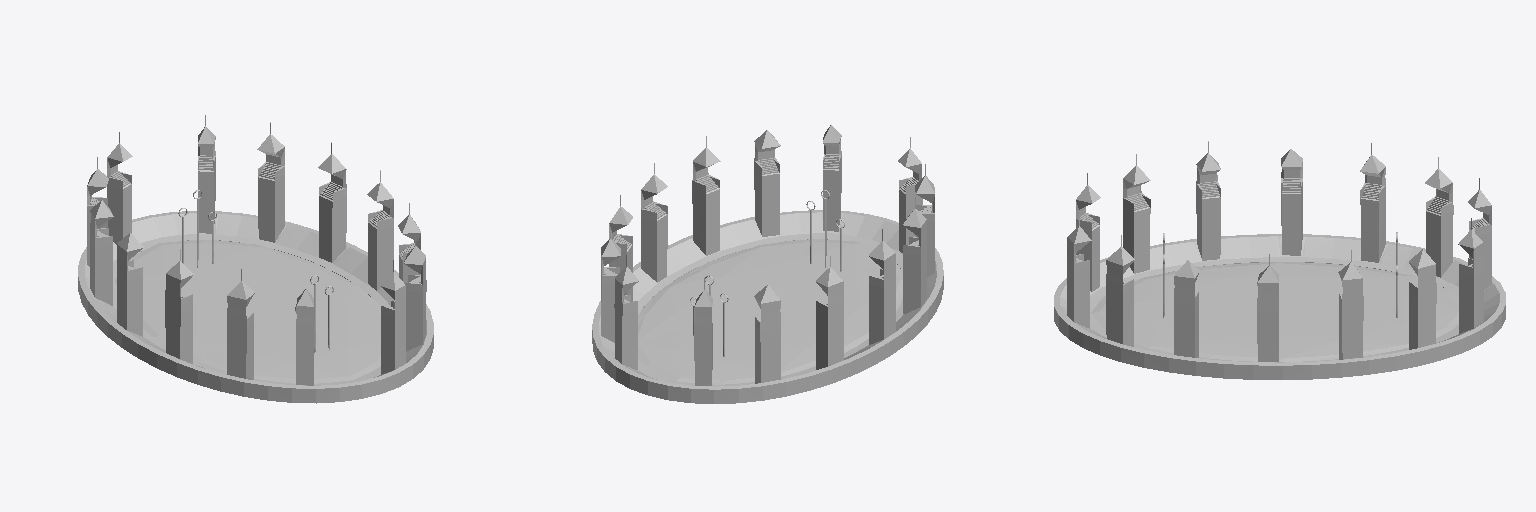
Rendered from quidditch pitch triangulated.obj.
3 renders of one model, left to right at view 1: azimuth 30°, elevation 25°; view 2: azimuth 150°, elevation 25°; view 3: azimuth 270°, elevation 25°, orthographic.
Parts seen in each view (by area): view 1: pCylinder1 group1, group1 pTorus1, group1 polySurface13, group1 polySurface14, group1 polySurface16, group1 polySurface19, group1 polySurface15, group1 polySurface8, group1 polySurface20, group1 polySurface9, group1 polySurface11, group1 polySurface18 (+5 smaller); view 2: pCylinder1 group1, group1 pTorus1, group1 polySurface17, group1 polySurface18, group1 polySurface9, group1 polySurface15, group1 polySurface8, group1 polySurface10, group1 polySurface16, group1 polySurface12, group1 polySurface20, group1 polySurface11 (+5 smaller); view 3: pCylinder1 group1, group1 pTorus1, group1 polySurface9, group1 polySurface19, group1 polySurface18, group1 polySurface16, group1 polySurface10, group1 polySurface13, group1 polySurface17, group1 polySurface8, group1 polySurface12, group1 polySurface14 (+4 smaller).
Part boxes in pixels (left/top/right/bottom): pCylinder1 group1: left=115, top=240, right=380, bottom=383; group1 pTorus1: left=78, top=211, right=433, bottom=403; group1 polySurface13: left=257, top=122, right=284, bottom=242; group1 polySurface14: left=318, top=142, right=346, bottom=262; group1 polySurface16: left=165, top=249, right=193, bottom=363; group1 polySurface19: left=227, top=269, right=254, bottom=379; group1 polySurface15: left=367, top=170, right=393, bottom=290; group1 polySurface8: left=117, top=221, right=143, bottom=336; group1 polySurface20: left=381, top=260, right=405, bottom=374; group1 polySurface9: left=90, top=200, right=113, bottom=305; group1 polySurface11: left=107, top=132, right=132, bottom=244; group1 polySurface18: left=404, top=234, right=426, bottom=351; pCylinder1 group1: left=638, top=239, right=902, bottom=384; group1 pTorus1: left=592, top=210, right=943, bottom=403; group1 polySurface17: left=692, top=136, right=720, bottom=255; group1 polySurface18: left=754, top=130, right=780, bottom=236; group1 polySurface9: left=816, top=256, right=843, bottom=369; group1 polySurface15: left=641, top=163, right=667, bottom=282; group1 polySurface8: left=869, top=229, right=895, bottom=344; group1 polySurface10: left=754, top=285, right=780, bottom=383; group1 polySurface16: left=903, top=197, right=926, bottom=313; group1 polySurface12: left=614, top=255, right=638, bottom=369; group1 polySurface20: left=823, top=125, right=841, bottom=231; group1 polySurface11: left=694, top=278, right=712, bottom=385; pCylinder1 group1: left=1091, top=262, right=1458, bottom=361; group1 pTorus1: left=1054, top=234, right=1505, bottom=379; group1 polySurface9: left=1360, top=143, right=1385, bottom=262; group1 polySurface19: left=1123, top=154, right=1150, bottom=273; group1 polySurface18: left=1106, top=235, right=1134, bottom=346; group1 polySurface16: left=1196, top=141, right=1220, bottom=260; group1 polySurface10: left=1425, top=157, right=1453, bottom=277; group1 polySurface13: left=1409, top=249, right=1436, bottom=349; group1 polySurface17: left=1174, top=260, right=1199, bottom=357; group1 polySurface8: left=1281, top=149, right=1302, bottom=255; group1 polySurface12: left=1458, top=218, right=1483, bottom=333; group1 polySurface14: left=1338, top=250, right=1363, bottom=359.
Bounding box in the file's own units: 4366 × 1858 × 6336.